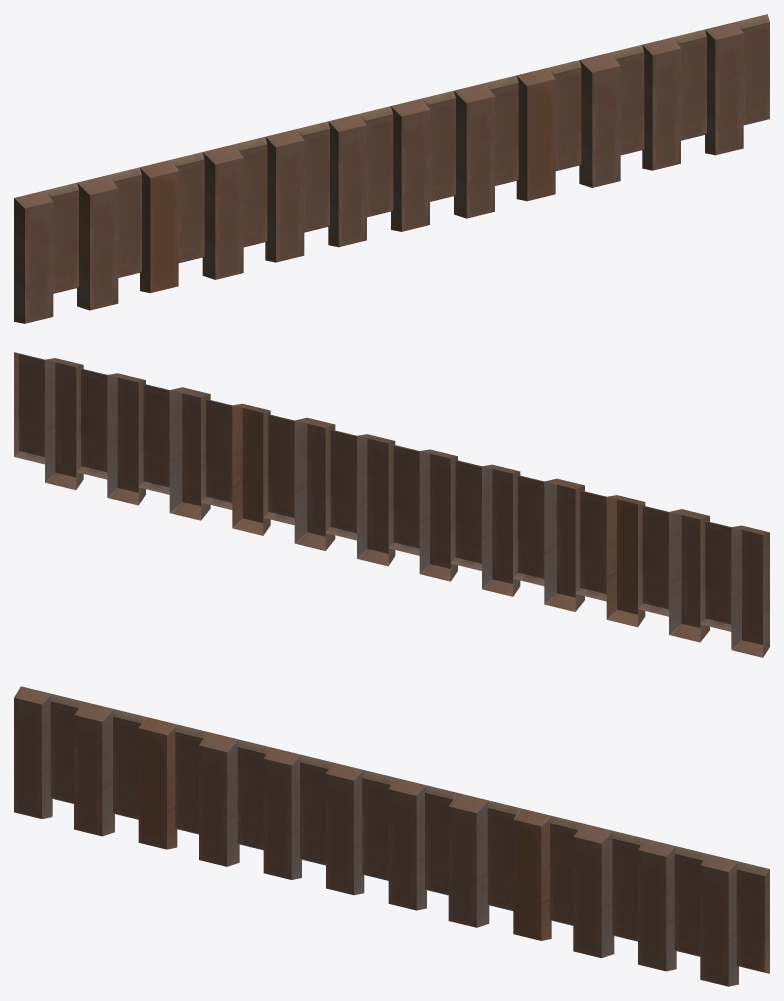
File: Brick_Ornament_Horizontal.glb
The picture shows the model from 3 angles, top to bottom: view 1: azimuth 30°, elevation 25°; view 2: azimuth 150°, elevation 25°; view 3: azimuth 330°, elevation 25°; orthographic projection.
Visible parts, largest first — view 1: Brick_Ornament_Horizontal; view 2: Brick_Ornament_Horizontal; view 3: Brick_Ornament_Horizontal.
Boxes of the visible parts, x1=… form: Brick_Ornament_Horizontal: x1=14, y1=14, x2=769, y2=323; Brick_Ornament_Horizontal: x1=14, y1=352, x2=769, y2=657; Brick_Ornament_Horizontal: x1=14, y1=686, x2=769, y2=986.
Size of the model in its own units: 2 by 0.314 by 0.0514.
1 material, 1 textured.
